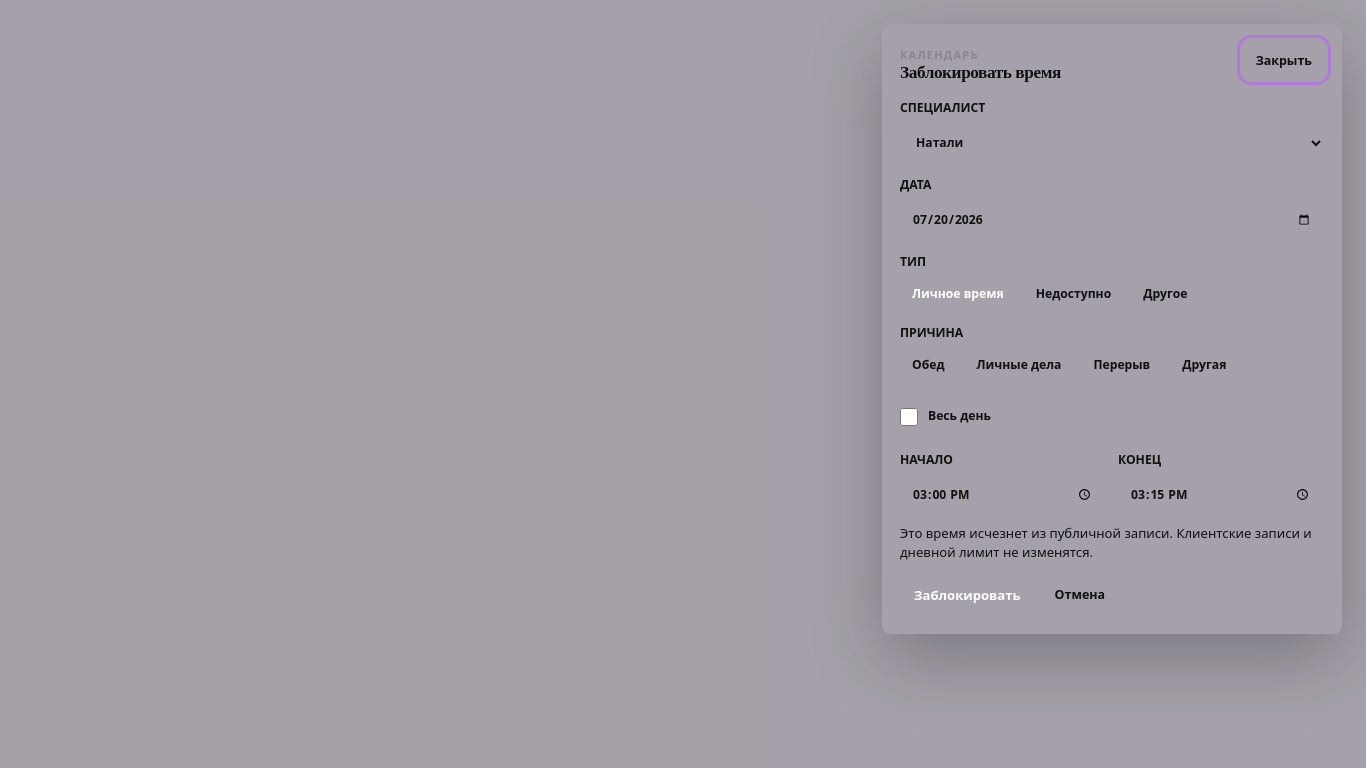
Test: CalendarBlockDialog › does not create a personal block across an existing appointment
This screenshot has width=1366, height=768.
Step 1. Click the button "Обед" → point(928, 365), box [900,347,956,383]
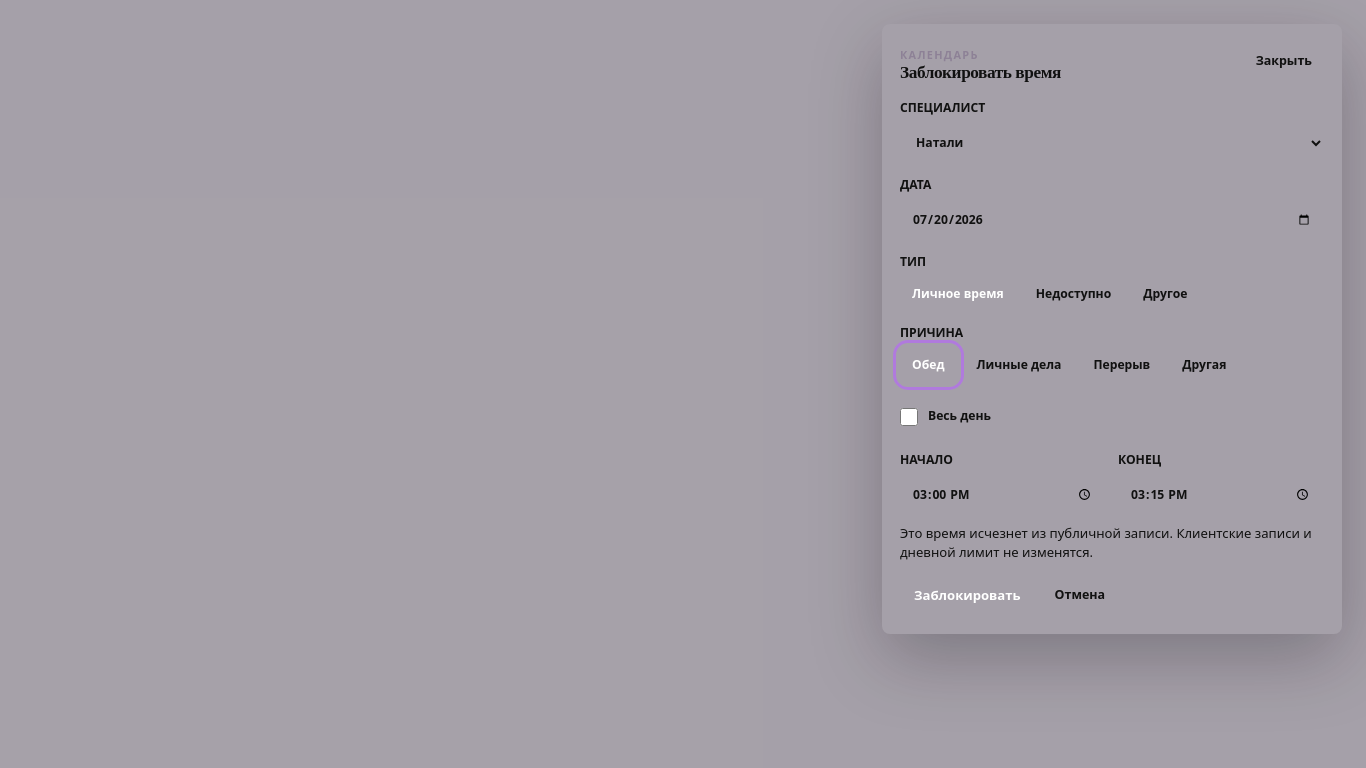
Step 2. Click the button "Заблокировать" → point(967, 595), box [900,574,1035,616]
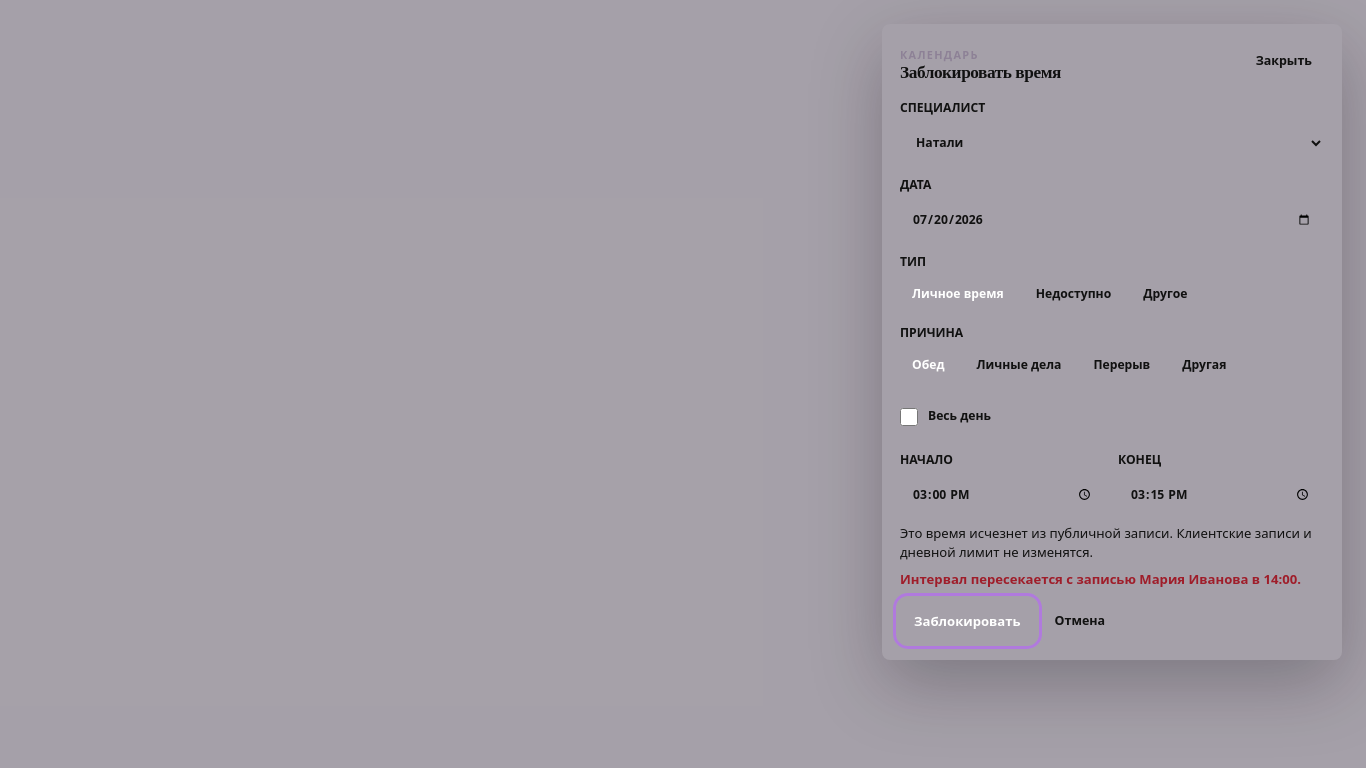
Check: the message shows "пересекается с записью Мария Иванова в 14:00", box [900,570,1301,588]
